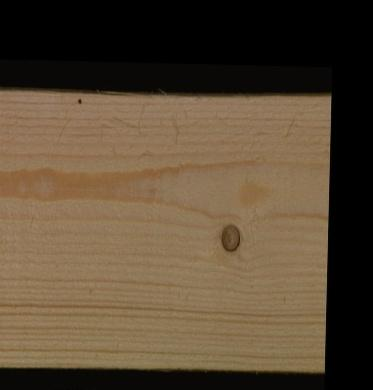dry_knot: (218, 222, 240, 253)
